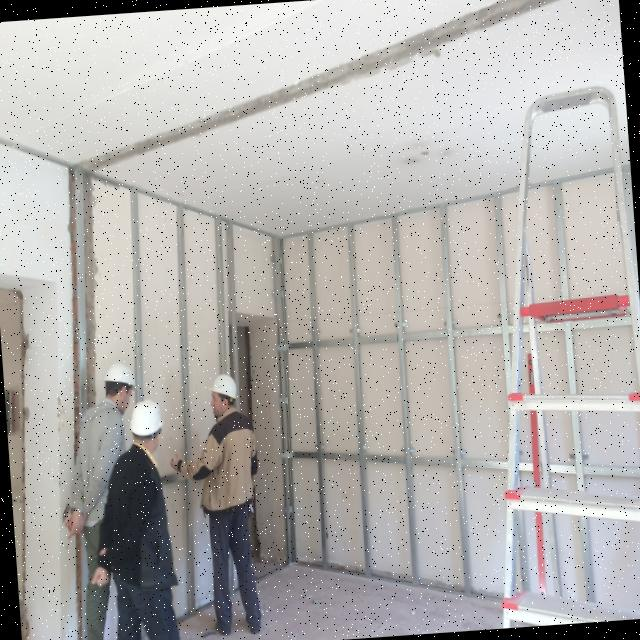Helmet: (127, 399, 168, 456), (102, 362, 141, 416), (208, 372, 241, 419)
NoJacket: (110, 451, 168, 585), (73, 404, 132, 522), (205, 412, 258, 514)
